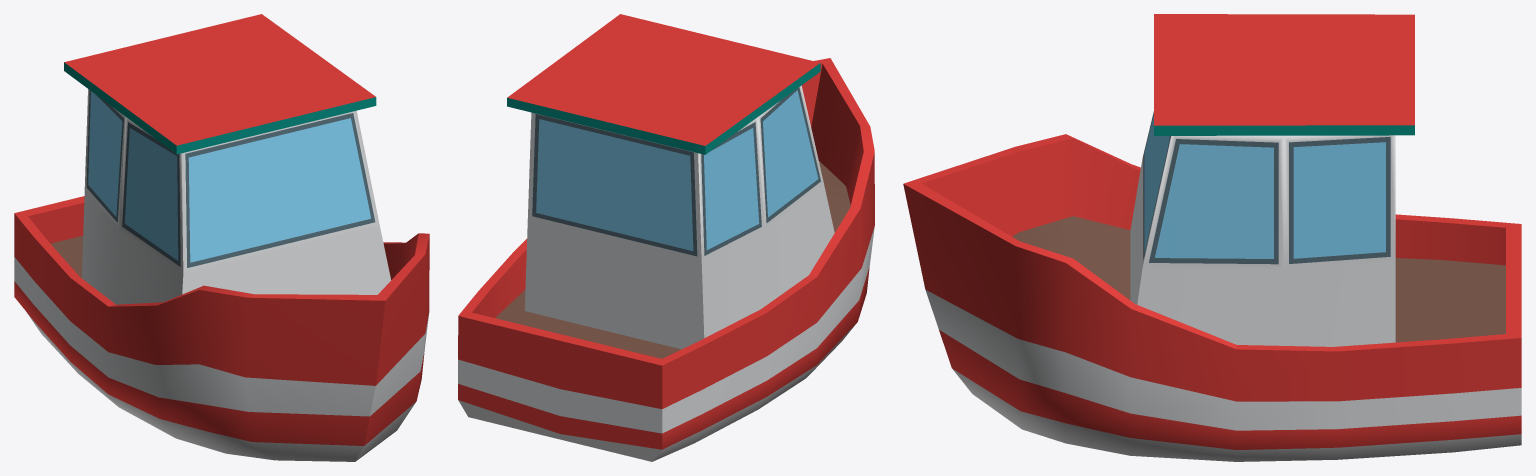
Rendered from _hip.fbx.
3 views of the same model, side by side, from view 1: azimuth 30°, elevation 25°; view 2: azimuth 150°, elevation 25°; view 3: azimuth 270°, elevation 25° (orthographic). The views are drawn at different scales.
Parts seen in each view (by area): view 1: ship; view 2: ship; view 3: ship.
Boxes of the visible parts, left/top/right/bottom form: ship: left=14, top=14, right=429, bottom=461; ship: left=458, top=14, right=874, bottom=461; ship: left=903, top=14, right=1521, bottom=461.
Size of the model in its own units: 34.91 by 35.75 by 61.81.
